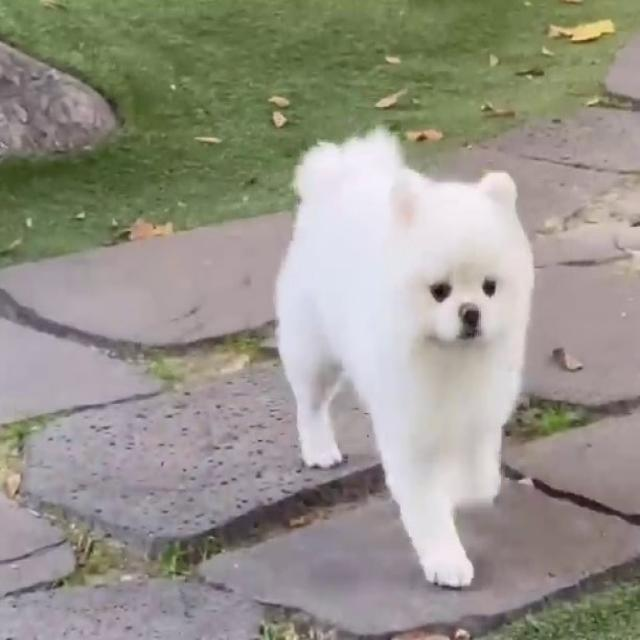Dog: (274, 127, 535, 588)
